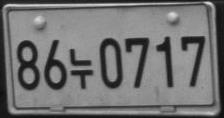0: (98, 37, 123, 89)
1: (154, 36, 180, 88)
6: (43, 39, 67, 90)
7: (125, 36, 150, 89), (180, 35, 205, 86)
8: (16, 39, 40, 90)
누: (68, 48, 94, 89)
